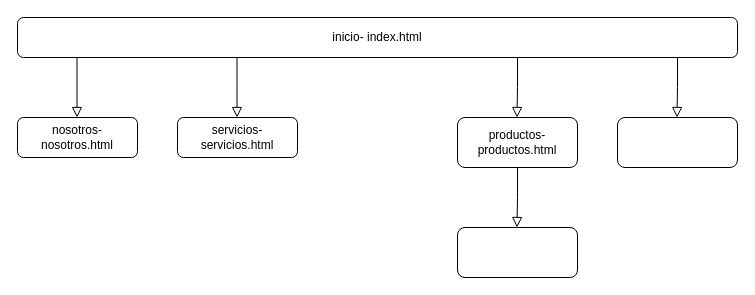
Some shapes in this 755 by 295 pixel diagram are drawn without their labels. Here are the shapes that lost their labels. From the top down, the centre of each, then its label:
point (677, 142): contacto- contacto.html
point (517, 252): productoa- productos.html
